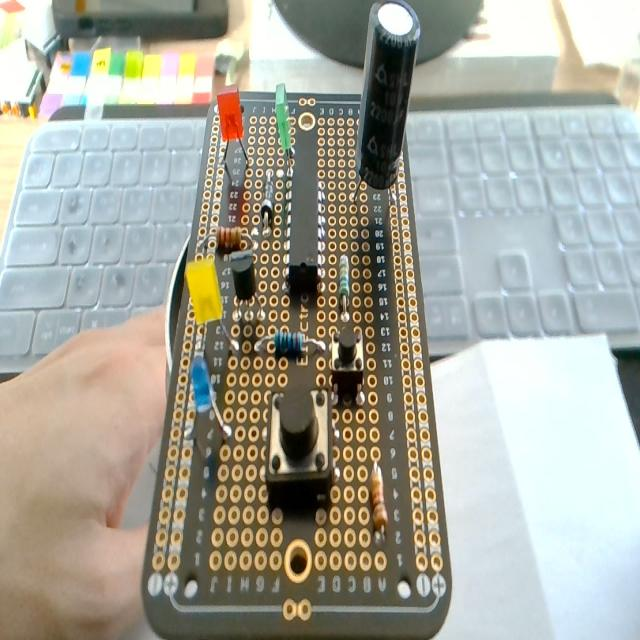Electrolytic capacitor: (356, 2, 419, 190)
IC: (284, 170, 328, 300)
diode: (261, 171, 275, 229)
led: (181, 352, 237, 455), (216, 85, 247, 178), (185, 256, 223, 325), (275, 82, 293, 152)
resistor: (371, 462, 388, 530), (274, 329, 304, 358), (338, 254, 351, 318), (216, 225, 242, 252)
switch: (266, 384, 333, 495), (331, 326, 364, 402)
transistor: (230, 255, 264, 319)
